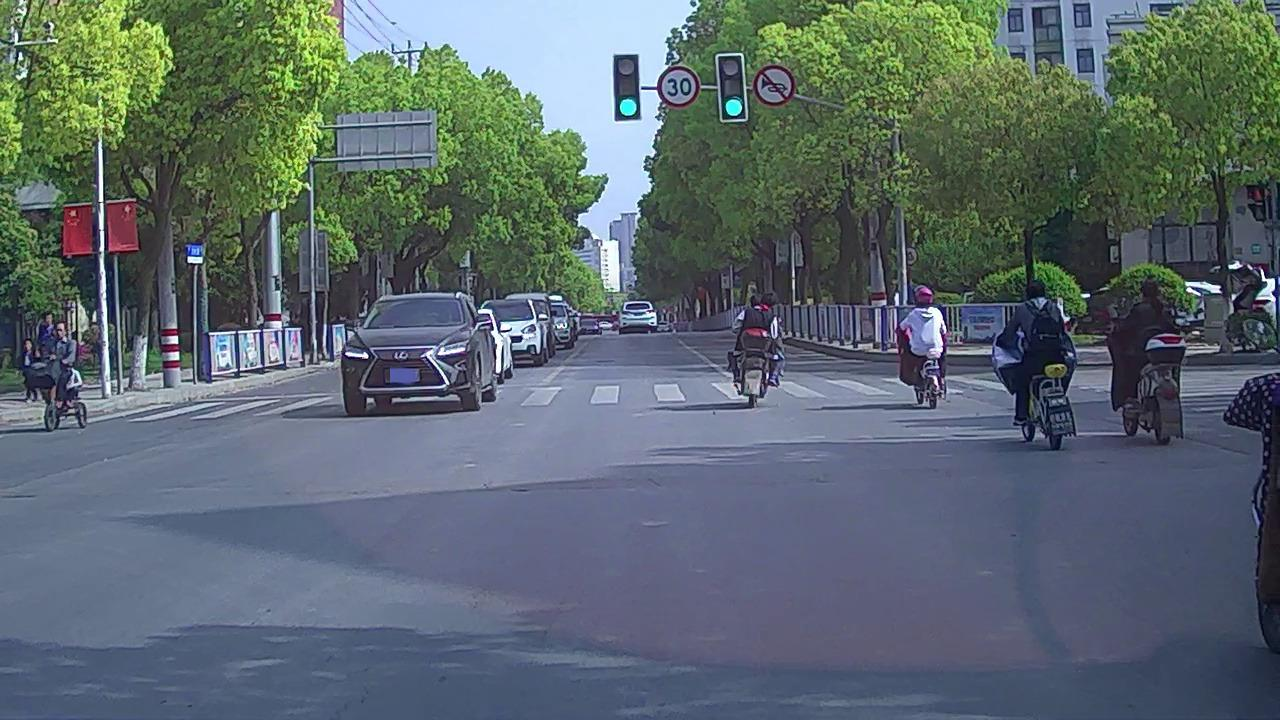traffic_light: (716, 55, 748, 120), (616, 53, 641, 120)
